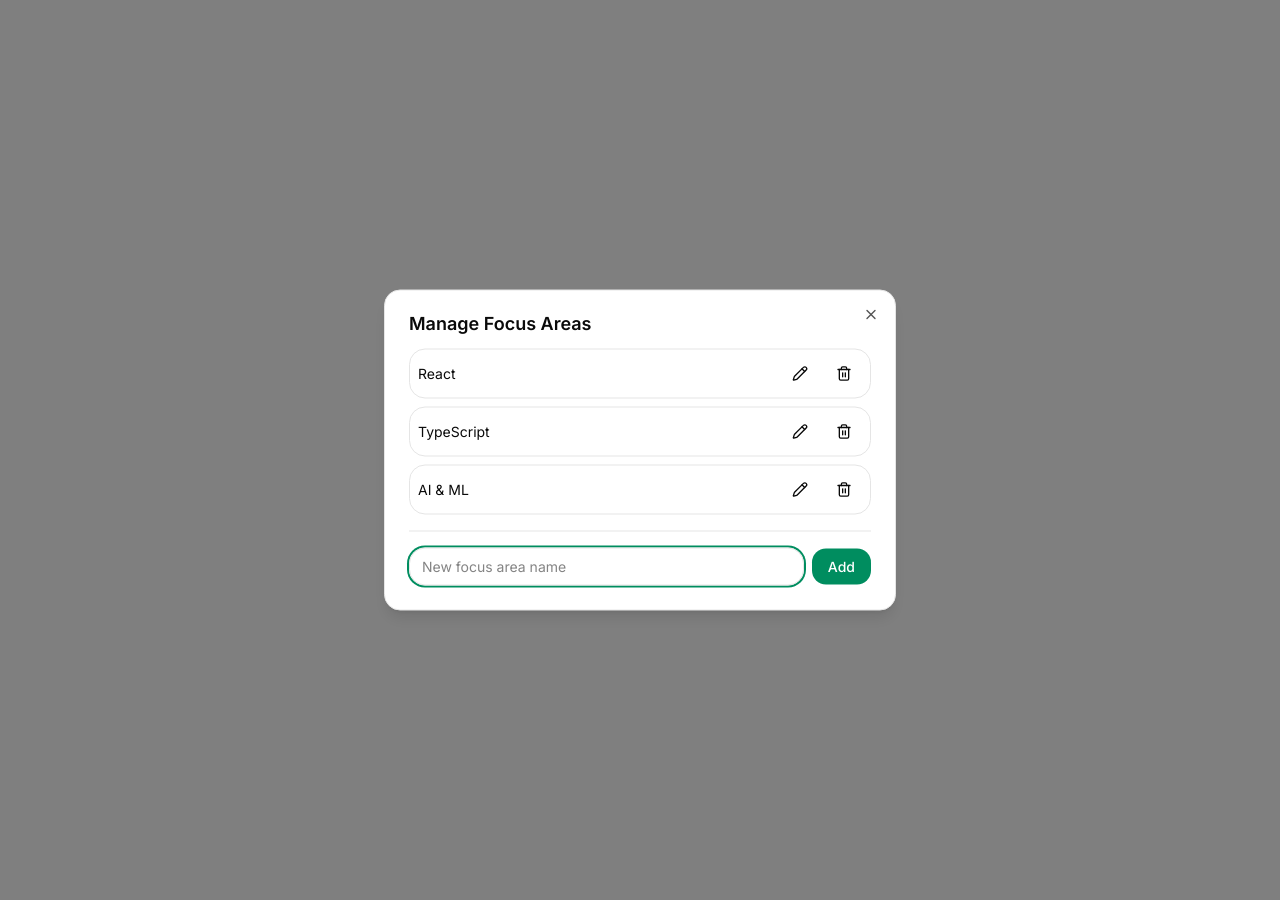
Test: ManageFocusAreasModal › enters edit mode when edit button is clicked
The width and height of the screenshot is (1280, 900).
expect the text "React" is shown: met, box [418,364,456,382]
Click the button named "edit" in the row of "React". click: {"x": 800, "y": 374}
box: [782,358,818,390]
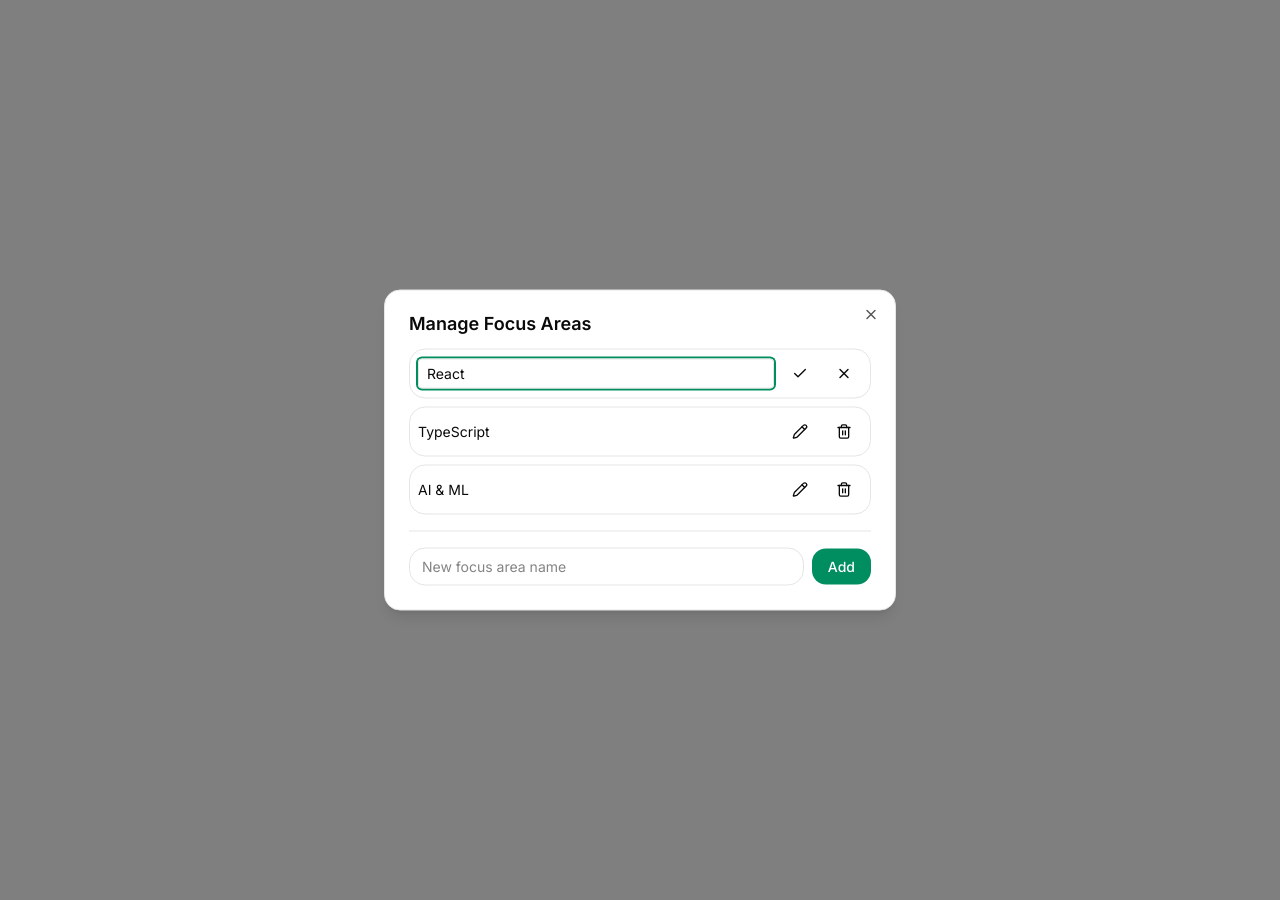
expect the field showing "React" is shown: met, box [418,358,774,388]
